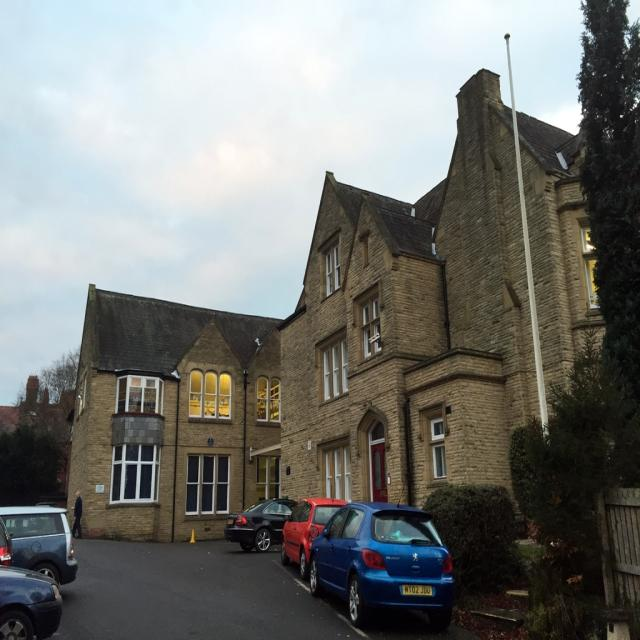car: (288, 502, 464, 631)
